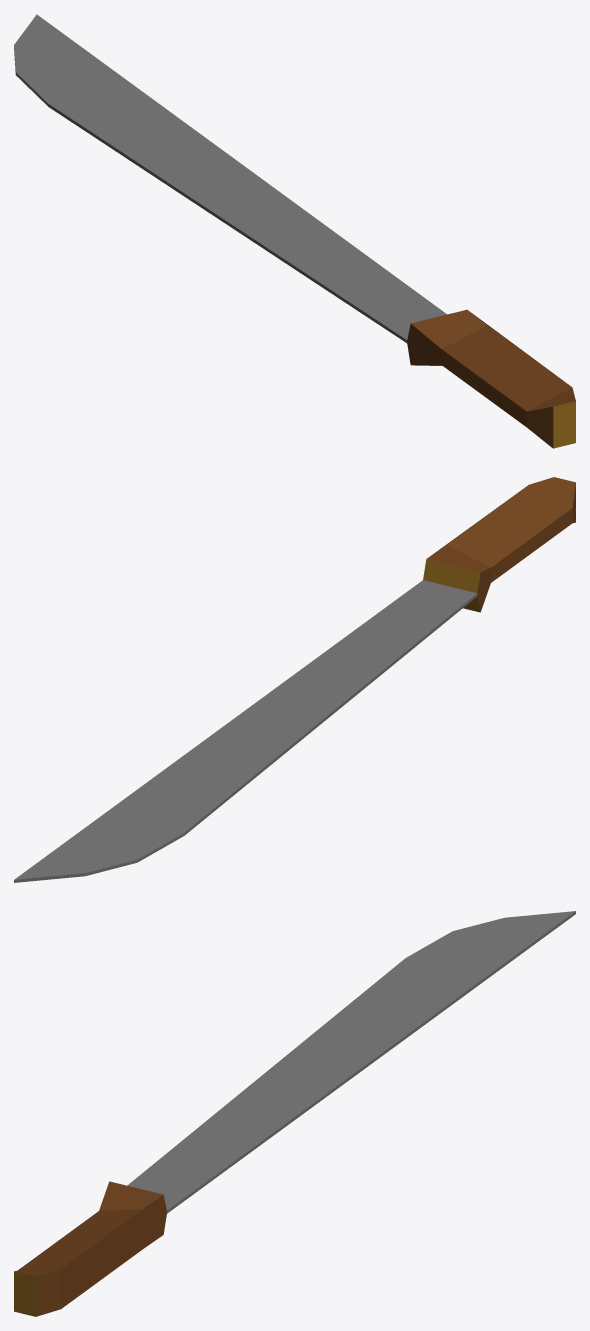
File: maczeta.fbx
The picture shows the model from 3 angles, top to bottom: view 1: azimuth 30°, elevation 25°; view 2: azimuth 150°, elevation 25°; view 3: azimuth 330°, elevation 25°; orthographic projection. The views are drawn at different scales.
Visible parts, largest first — view 1: Cube; view 2: Cube; view 3: Cube.
Boxes of the visible parts, x1,y1,x2,y2 form: Cube: (14,14,575,448); Cube: (14,477,575,882); Cube: (14,911,575,1316).
Size of the model in its own units: 49.9 by 2.1 by 4.36.
